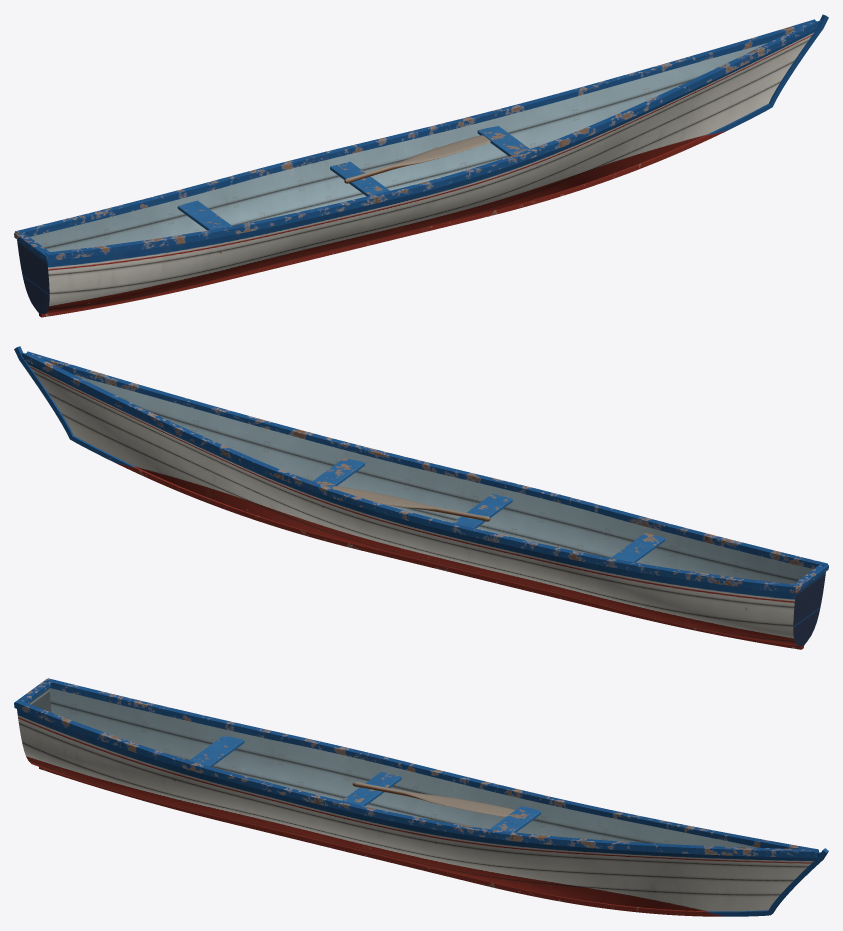
The model's file is Sabani_B.gltf.
3 renders of one model, top to bottom at view 1: azimuth 30°, elevation 25°; view 2: azimuth 150°, elevation 25°; view 3: azimuth 330°, elevation 25°, orthographic.
Visible parts, largest first — view 1: Sabani_B; view 2: Sabani_B; view 3: Sabani_B.
Boxes of the visible parts, bbox=[...] form: Sabani_B: bbox=[14, 14, 828, 317]; Sabani_B: bbox=[14, 346, 828, 649]; Sabani_B: bbox=[14, 678, 828, 916].
Size of the model in its own units: 7.21 by 1.02 by 0.932.
2 materials, 2 textured.
